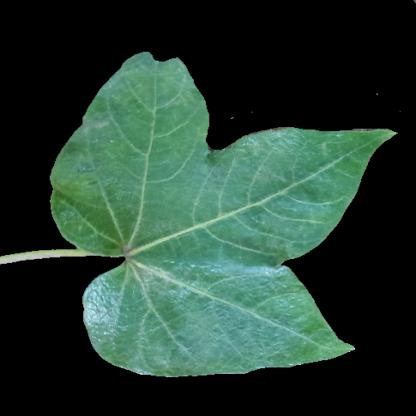healthy: (140, 194, 280, 325), (106, 100, 206, 273), (166, 322, 278, 375), (252, 144, 347, 202), (87, 283, 150, 349), (282, 307, 326, 357)
